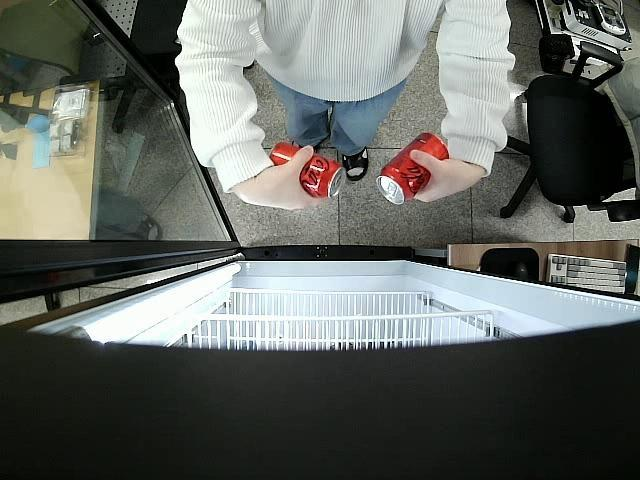11_cocaColaZero: (374, 132, 450, 206), (269, 141, 346, 200)
